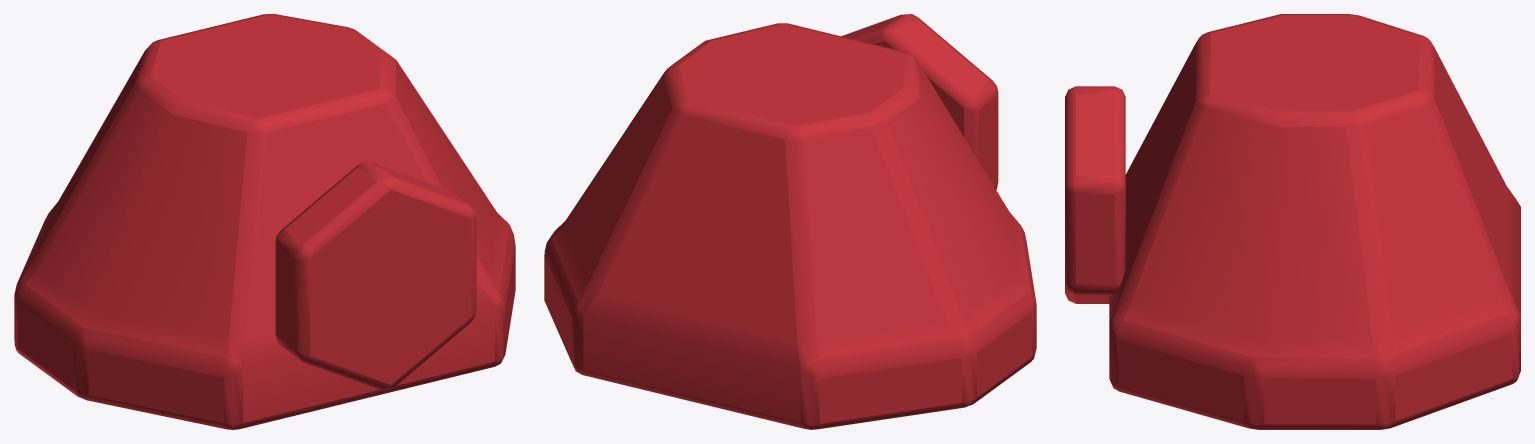
File: AnimalHeadBack_Set10_Aegis.fbx
3 views of the same model, side by side, from view 1: azimuth 30°, elevation 25°; view 2: azimuth 150°, elevation 25°; view 3: azimuth 270°, elevation 25° (orthographic). The views are drawn at different scales.
Visible parts, largest first — view 1: AnimalHeadBack_Set10_Aegis; view 2: AnimalHeadBack_Set10_Aegis; view 3: AnimalHeadBack_Set10_Aegis.
Boxes of the visible parts, x1,y1,x2,y2 form: AnimalHeadBack_Set10_Aegis: (14, 14, 515, 429); AnimalHeadBack_Set10_Aegis: (544, 14, 1036, 429); AnimalHeadBack_Set10_Aegis: (1065, 14, 1520, 429).
Size of the model in its own units: 0.42 by 0.24 by 0.3764.
